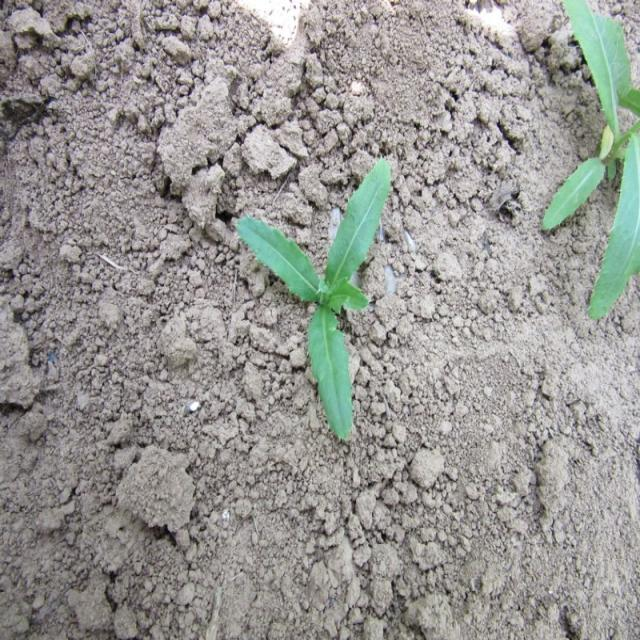field_thistle: (223, 155, 413, 417)
